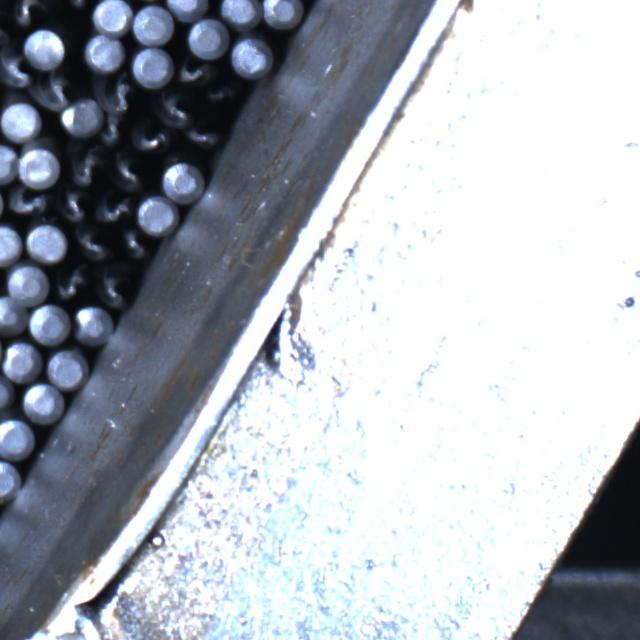tool: (132, 4, 174, 46), (7, 263, 49, 305), (72, 304, 114, 346), (23, 27, 66, 68), (18, 146, 59, 188), (3, 339, 44, 381), (162, 161, 204, 202), (28, 302, 69, 344), (60, 95, 102, 136), (22, 383, 63, 424), (231, 38, 272, 79), (188, 19, 230, 59), (24, 223, 66, 263), (1, 100, 43, 140), (48, 349, 88, 390), (136, 195, 176, 236), (132, 46, 172, 87), (84, 32, 125, 72), (0, 418, 33, 460), (92, 0, 131, 34), (220, 0, 262, 28), (261, 0, 302, 28), (0, 296, 27, 336), (0, 224, 22, 266), (0, 460, 21, 504), (164, 0, 208, 19), (0, 143, 18, 185), (0, 372, 15, 416)
tool_b: (68, 143, 109, 190), (95, 265, 134, 309), (96, 76, 134, 118), (0, 46, 33, 93), (72, 226, 114, 262), (6, 186, 49, 221), (54, 263, 92, 302), (95, 109, 132, 149), (156, 90, 192, 128), (37, 74, 73, 112), (111, 153, 145, 192), (0, 0, 49, 27), (94, 192, 134, 225), (116, 227, 151, 262), (56, 187, 90, 223), (182, 120, 220, 152), (174, 56, 212, 87), (132, 123, 169, 153), (203, 81, 237, 108), (52, 0, 96, 13)
